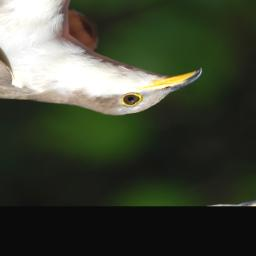Cuckoo: (0, 4, 214, 159)
